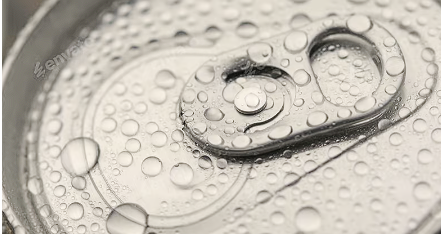Intacto: (1, 3, 441, 234)
